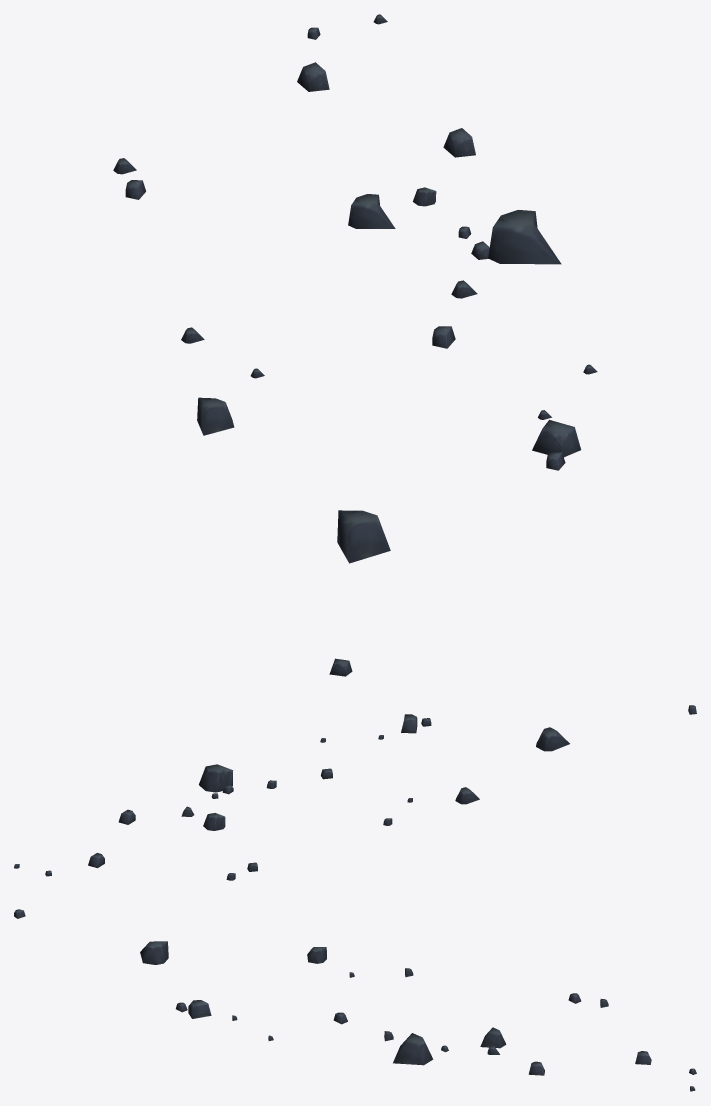
Rendered from shitou04.fbx.
3 views of the same model, one above another, from view 1: azimuth 30°, elevation 25°; view 2: azimuth 150°, elevation 25°; view 3: azimuth 270°, elevation 25° (orthographic). The views are drawn at different scales.
Visible parts, largest first — view 1: shitou04; view 2: shitou04; view 3: shitou04.
Boxes of the visible parts, x1,y1,x2,y2 form: shitou04: (113,14,597,676); shitou04: (14,705,696,880); shitou04: (14,909,696,1091).
Size of the model in its own units: 4770 by 273 by 7729.
